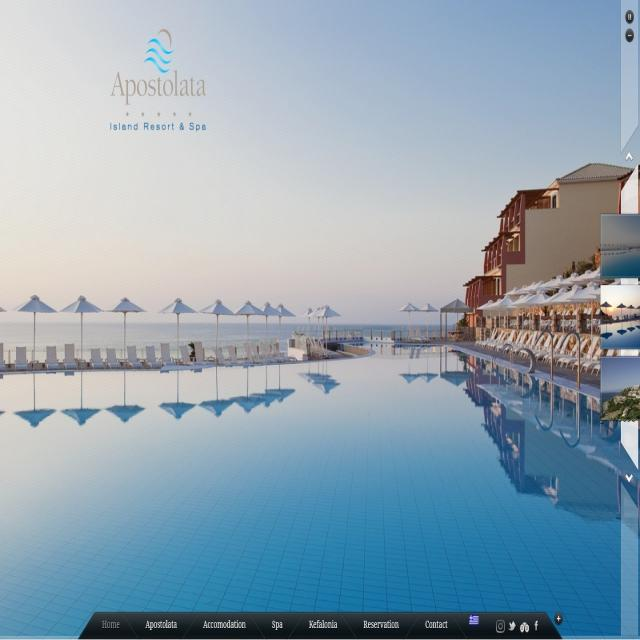button: (198, 612, 250, 638), (357, 613, 402, 639), (304, 614, 341, 640), (621, 458, 640, 508), (143, 612, 179, 638), (93, 611, 123, 640), (419, 613, 451, 640), (264, 613, 289, 640), (491, 618, 506, 637), (518, 619, 530, 638), (464, 614, 483, 626), (623, 28, 635, 46), (552, 610, 565, 626), (531, 619, 542, 637), (624, 147, 635, 164), (624, 9, 635, 25), (507, 618, 517, 635)
heading: (105, 65, 211, 134)
image: (0, 1, 640, 639), (138, 24, 172, 76)
